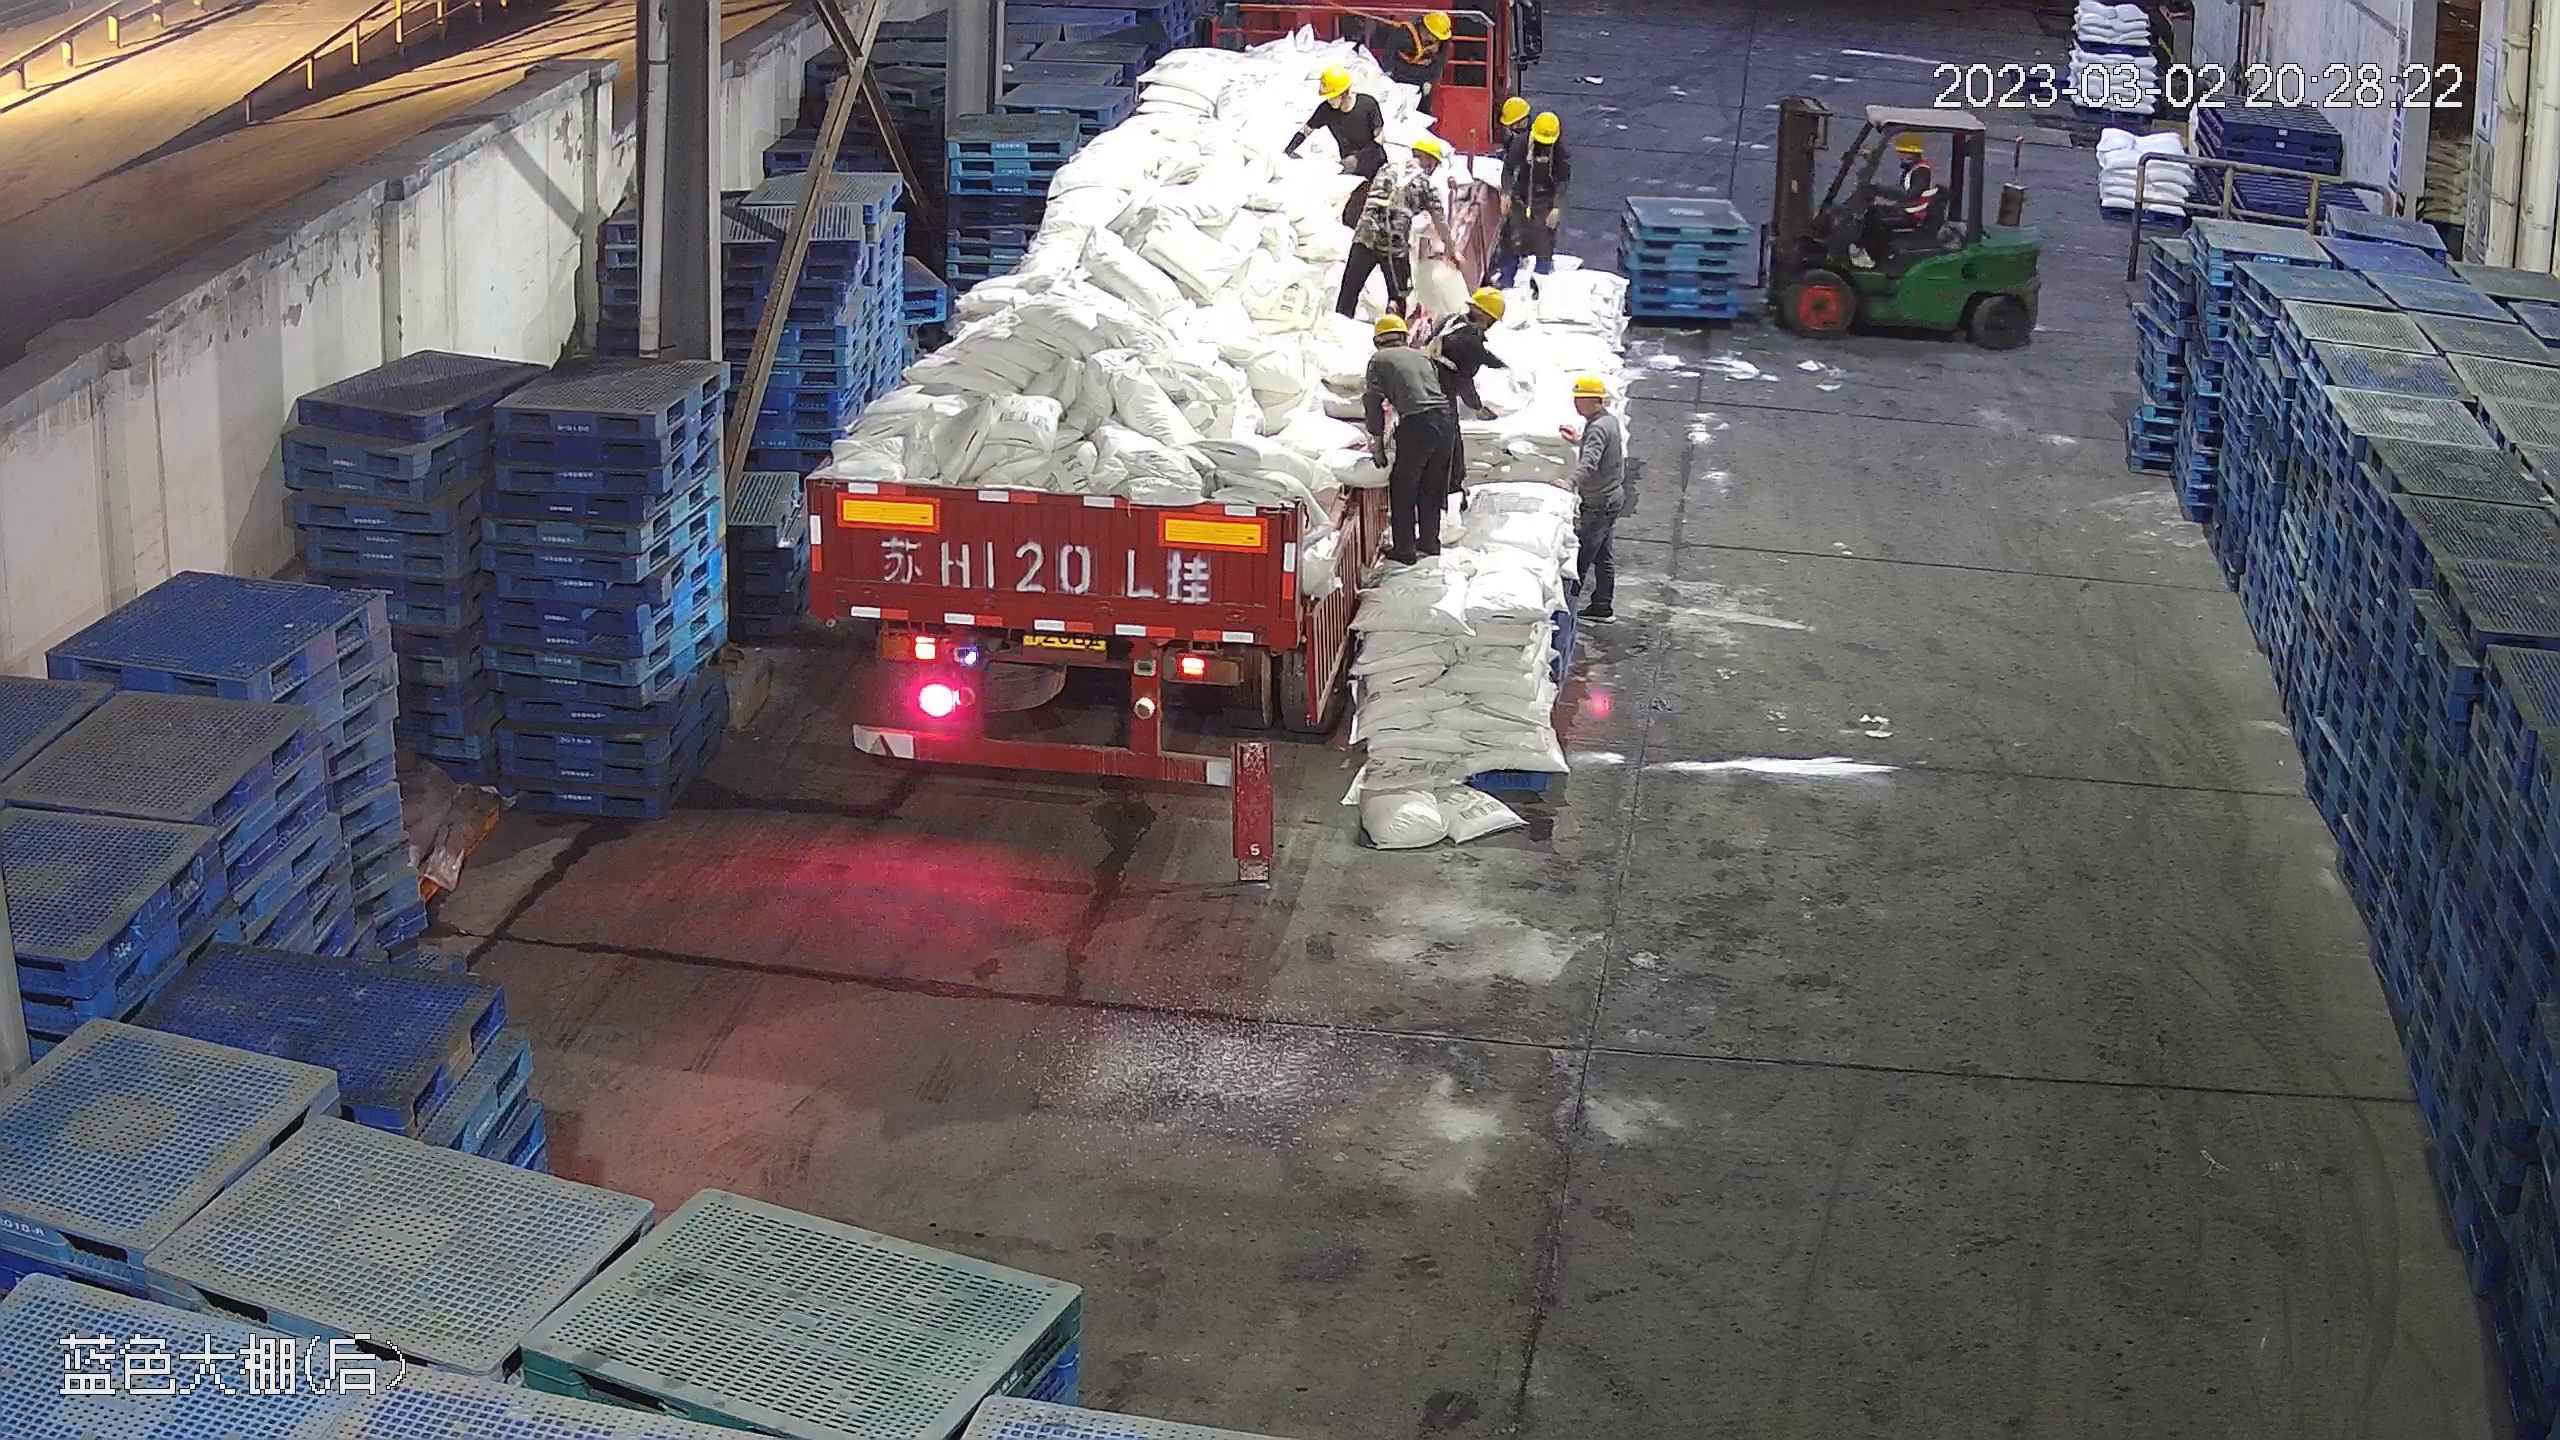belt: (1414, 312, 1480, 376), (1364, 157, 1423, 216), (1394, 22, 1436, 66), (1522, 135, 1556, 178)
head: (1430, 286, 1507, 357), (1368, 315, 1446, 381), (1563, 371, 1630, 448), (1305, 63, 1382, 129), (1367, 135, 1444, 197), (1502, 106, 1571, 172), (1386, 8, 1448, 60), (1889, 130, 1937, 184)
helmet: (1470, 286, 1508, 324), (1525, 106, 1559, 144), (1315, 65, 1353, 98), (1419, 9, 1453, 44), (1571, 371, 1611, 400), (1370, 312, 1409, 340), (1409, 136, 1444, 166), (1497, 95, 1527, 122), (1896, 129, 1925, 153)
people: (1369, 290, 1478, 564), (1332, 129, 1445, 323), (1556, 370, 1634, 624), (1298, 60, 1392, 233), (1491, 101, 1569, 303), (1371, 9, 1454, 145), (1855, 124, 1939, 254)
truck: (800, 7, 1451, 787)
